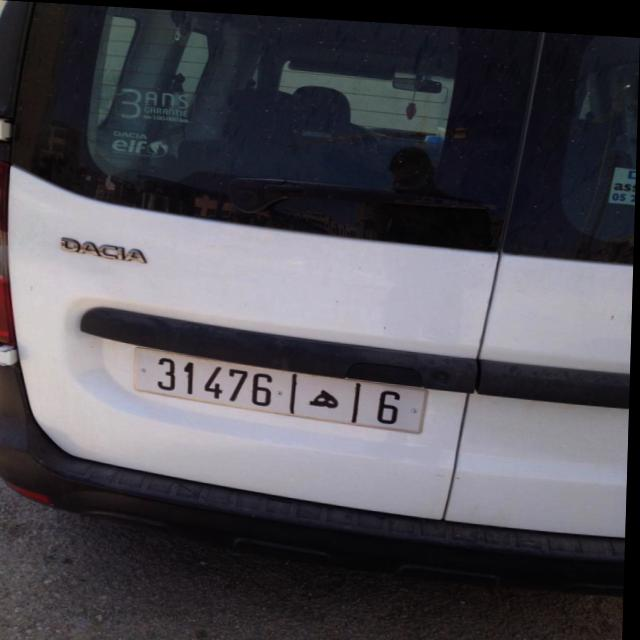License-Plate: (136, 346, 428, 427)
